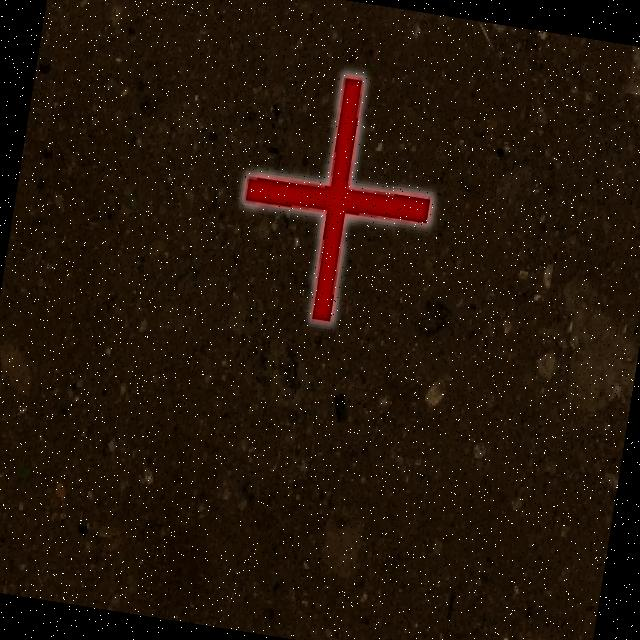x_marker: (226, 61, 448, 333)
